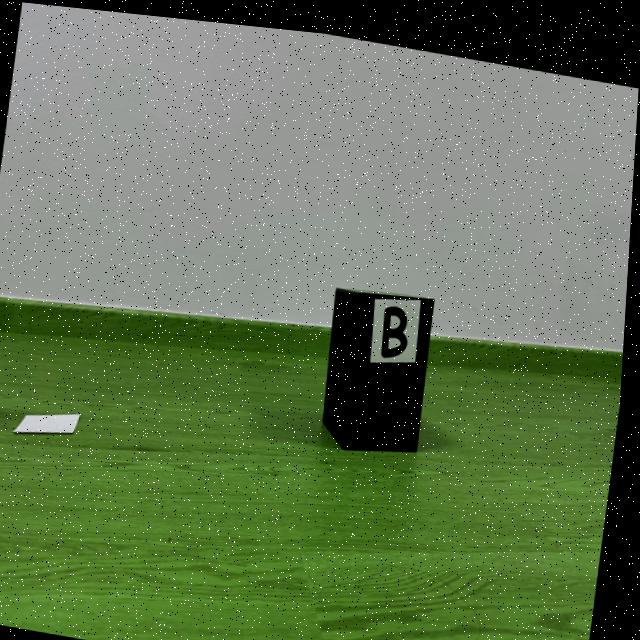B: (385, 296, 411, 349)
